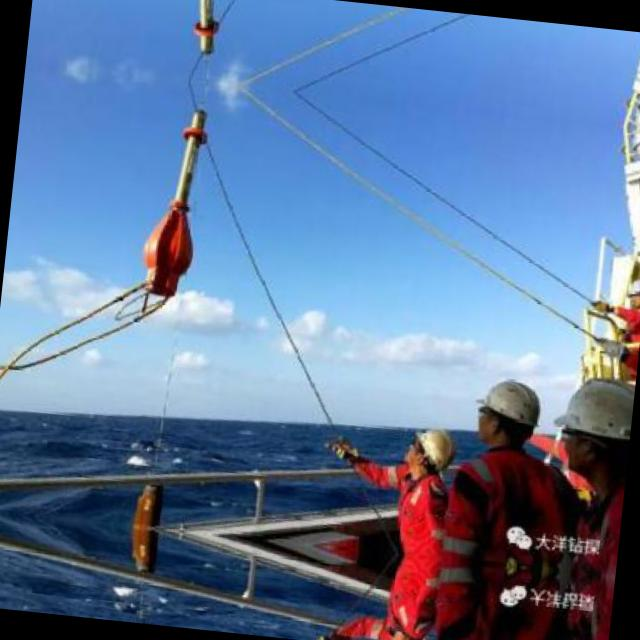helmet: (551, 369, 633, 483), (467, 366, 548, 456), (402, 424, 461, 478), (383, 633, 440, 640)
